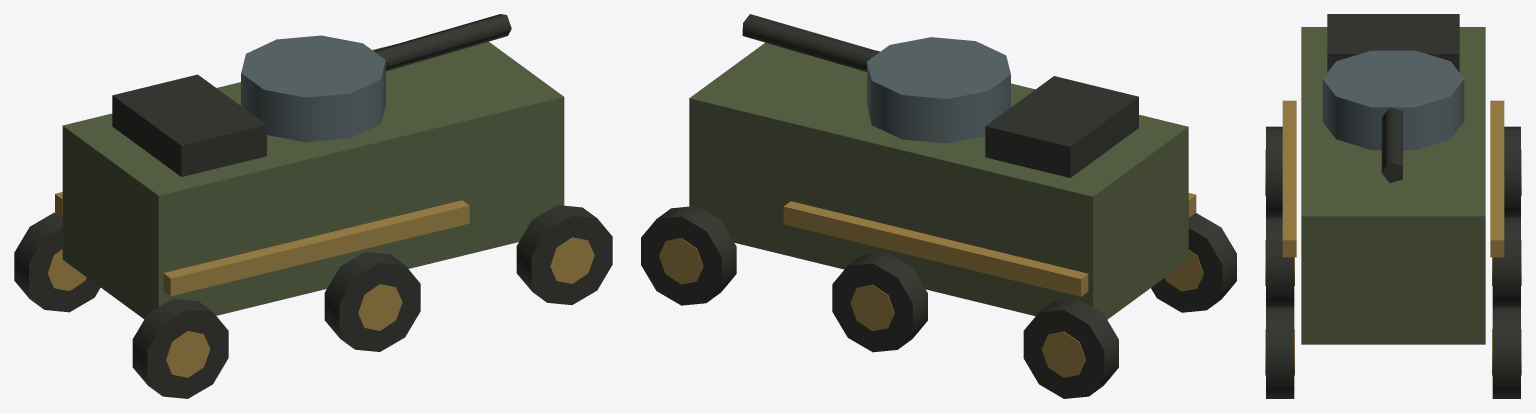
Rendered from custom-unit-mech.glb.
The picture shows the model from 3 angles, left to right: view 1: azimuth 30°, elevation 25°; view 2: azimuth 150°, elevation 25°; view 3: azimuth 270°, elevation 25°; orthographic projection. The views are drawn at different scales.
Parts seen in each view (by area): view 1: custom-unit-mech; view 2: custom-unit-mech; view 3: custom-unit-mech.
Part boxes in pixels (x1,y1,x2,y2): custom-unit-mech: (14,14,612,398); custom-unit-mech: (641,14,1236,398); custom-unit-mech: (1265,14,1521,398).
Bounding box in the file's own units: 1 × 0.4988 × 0.4981.
